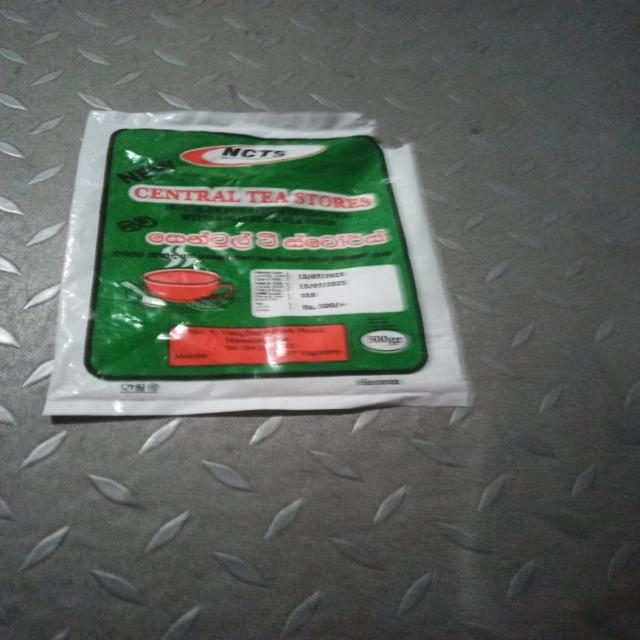Central Tea: (56, 102, 512, 412)
